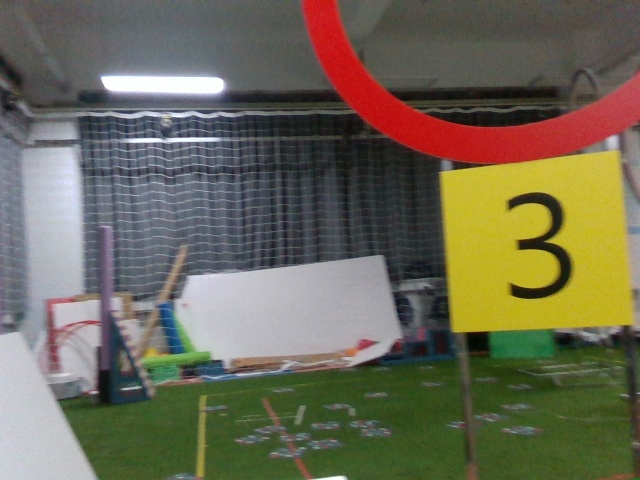target: (441, 162, 630, 326)
